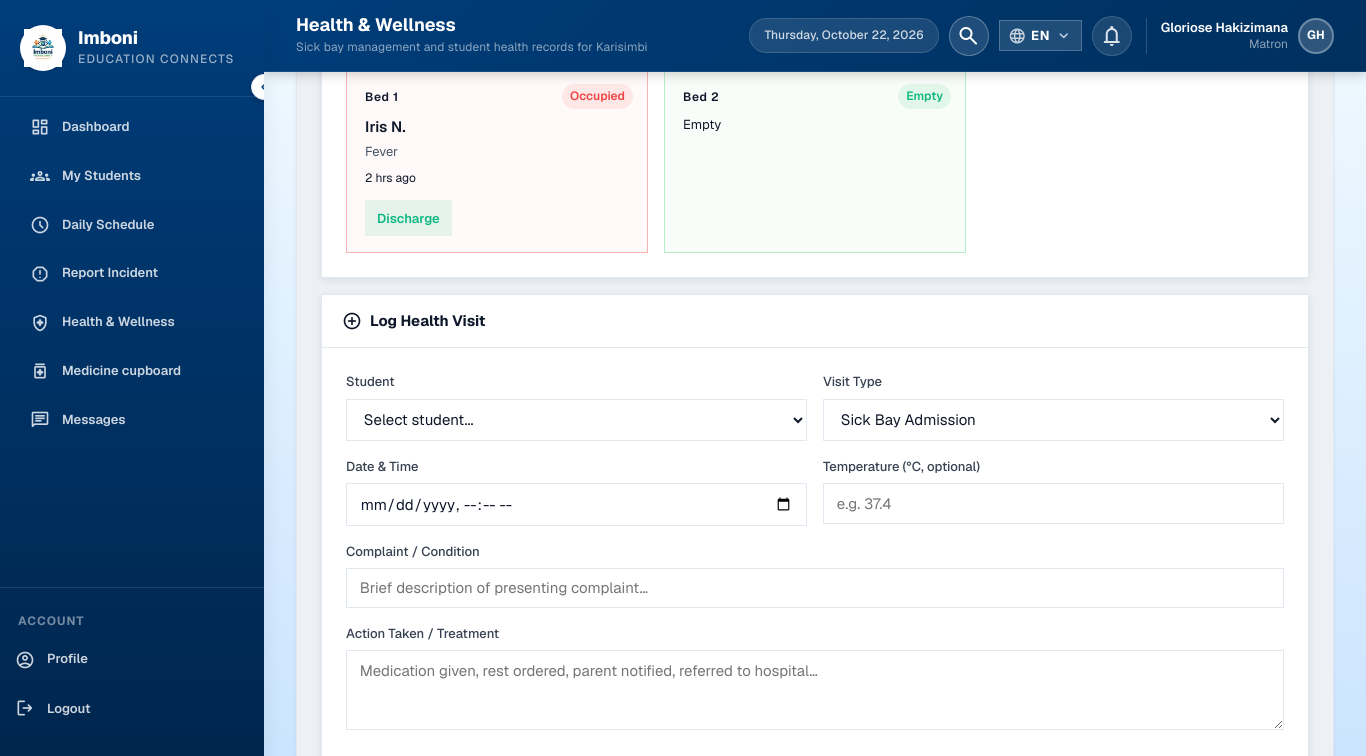
Test: MatronHealth › disables Save Record until a student and complaint are provided
(page scrolled)
Expected: the heading "Log Health Visit" is shown, [342,311,486,331]
Step 1. Select "Iris Niyomugabo (SS2A)" in the 1st dropdown → (576, 420), box [346,399,807,441]
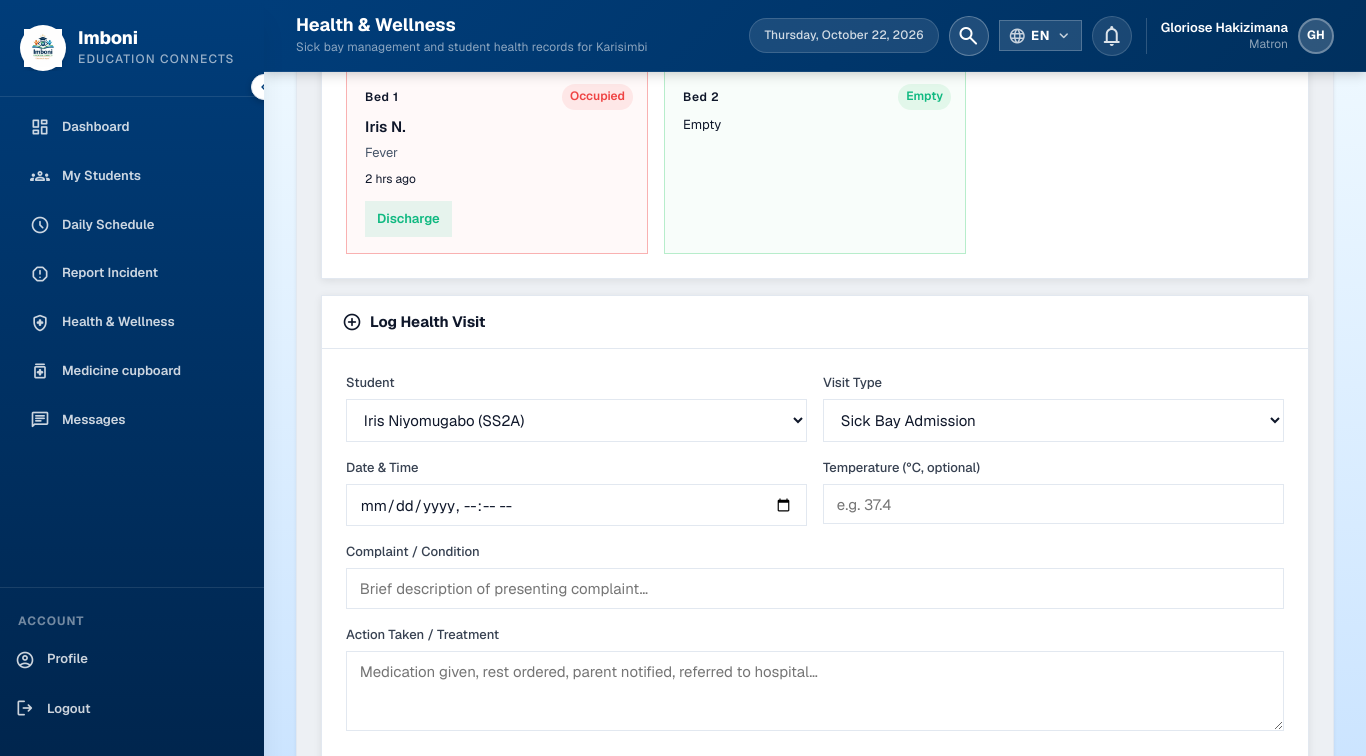
Step 2. Type "Headache" into the field with placeholder "Brief description of presenting complaint…" → (815, 589), box [346,568,1284,609]
(page scrolled)
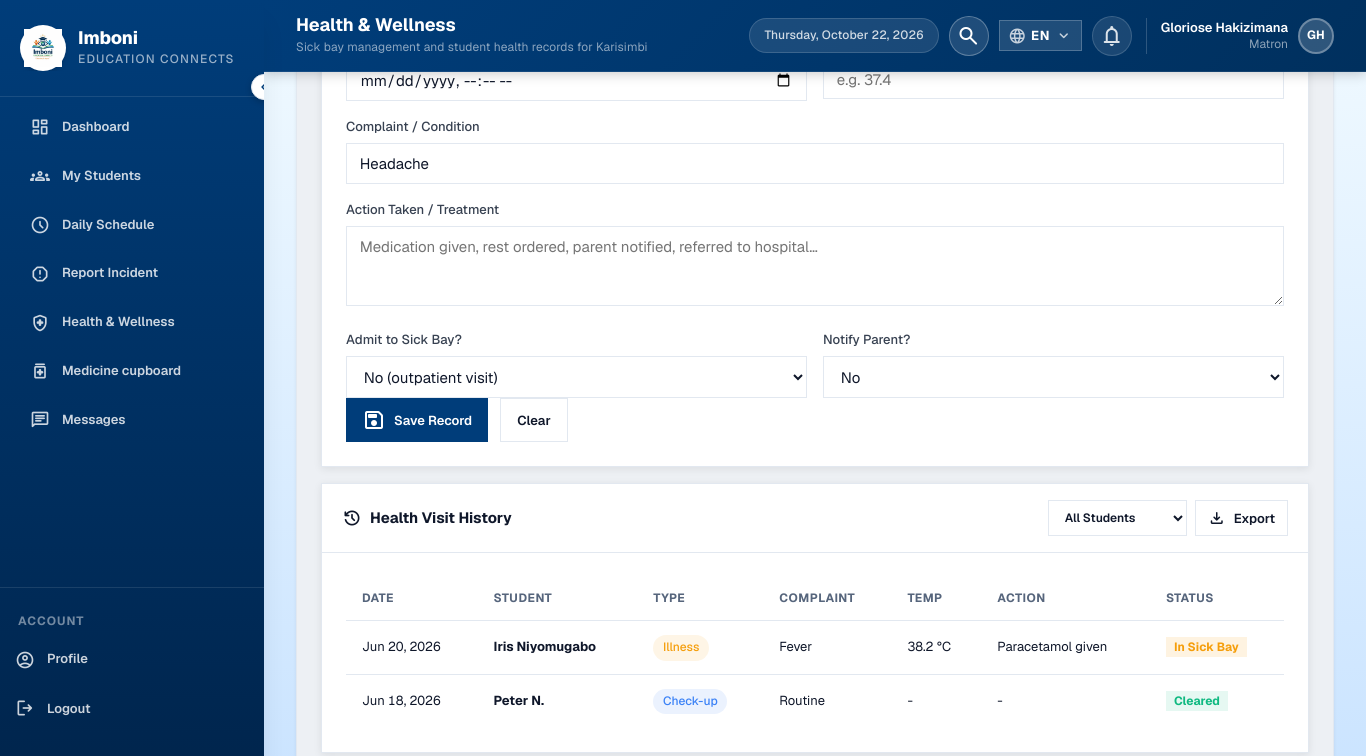
Now the button "Save Record" is enabled, box [346,398,488,442]
